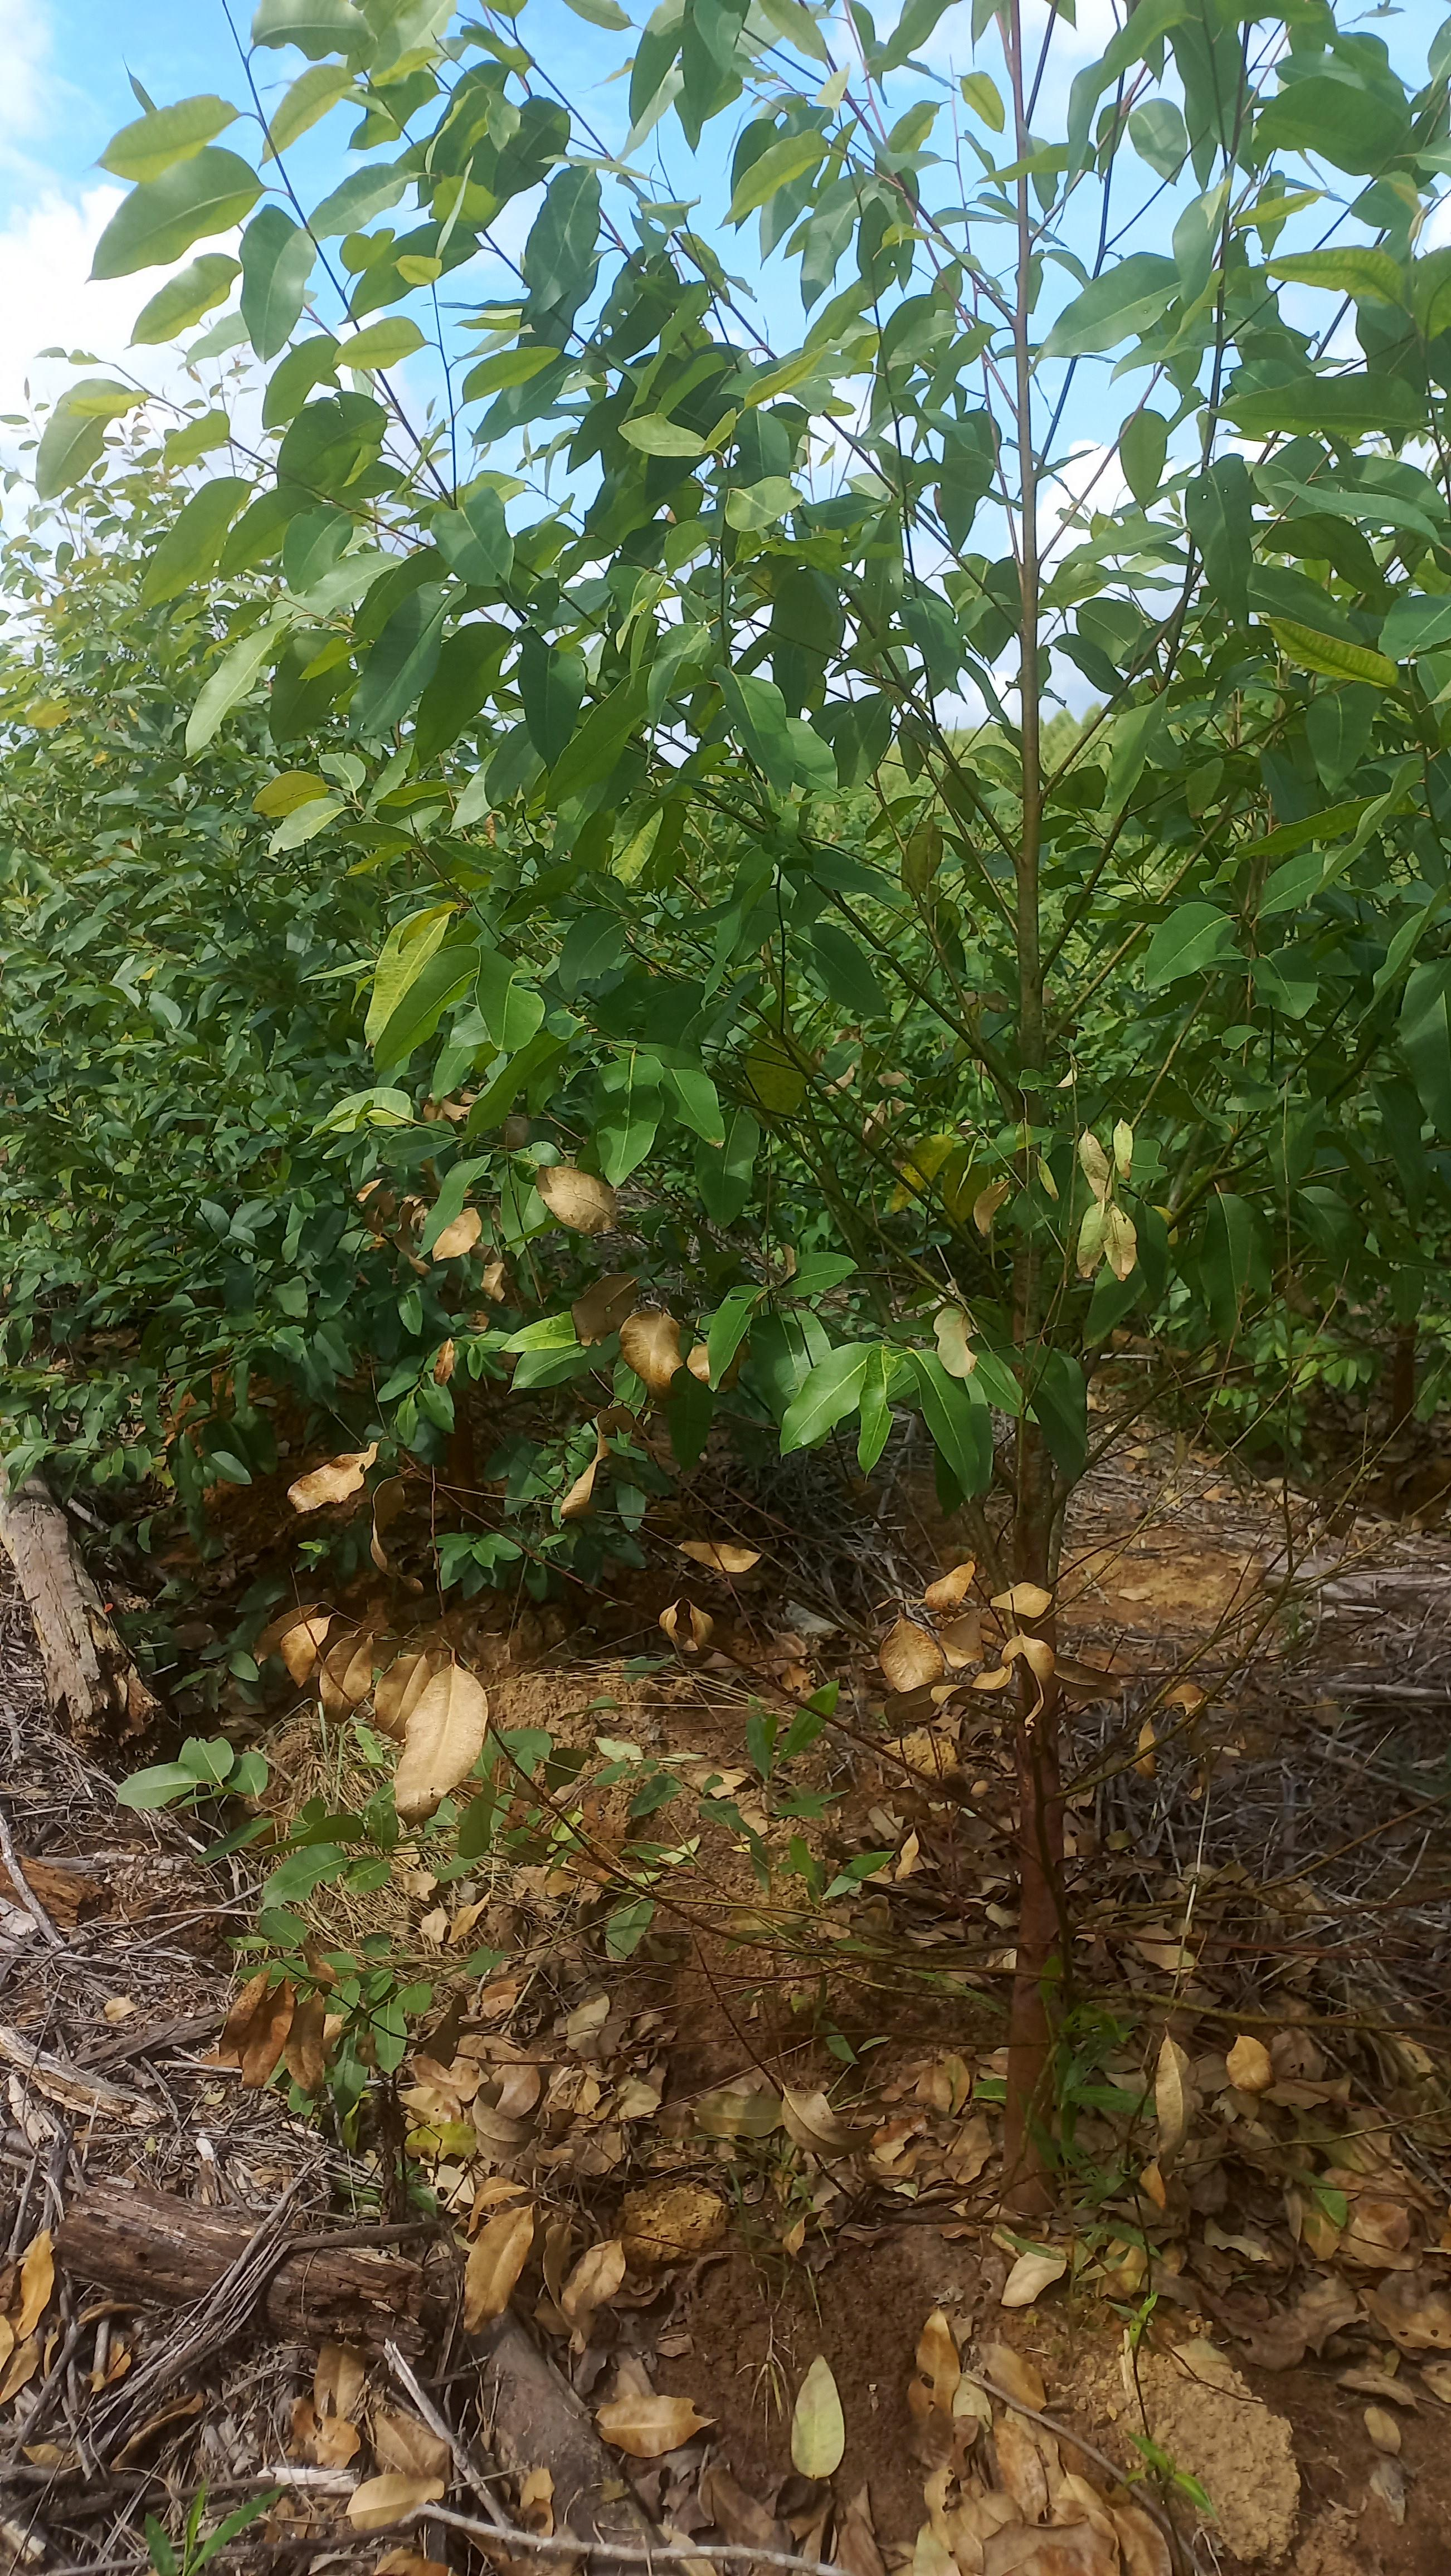Wither Tree Parts: (644, 1520, 1083, 1819), (278, 1599, 547, 1847), (902, 1093, 1193, 1315), (349, 1132, 648, 1295), (276, 1433, 467, 1583), (593, 1299, 733, 1417)
